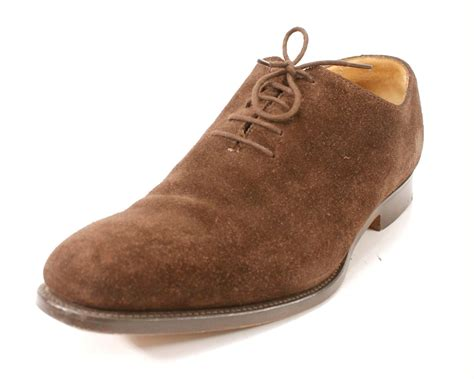gamuza: (38, 54, 426, 316)
